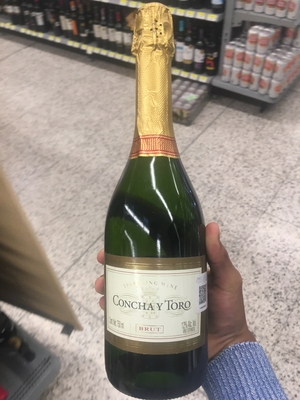brut: (99, 14, 215, 400)
